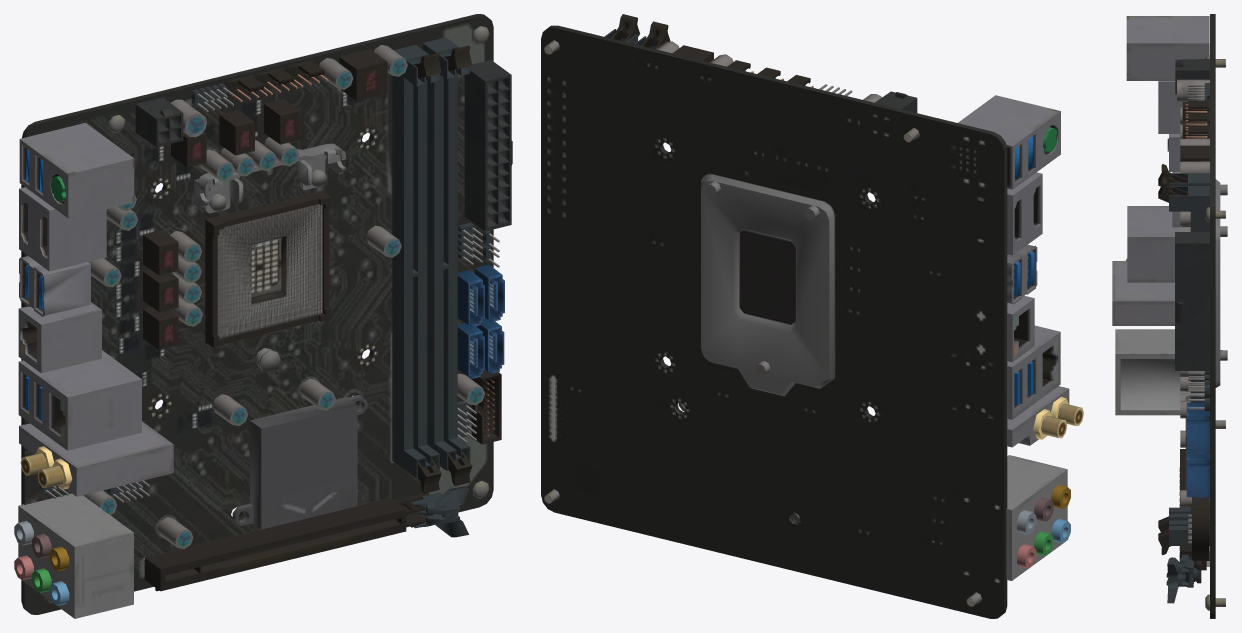
The model's file is motherboard_itx.glb.
3 views of the same model, side by side, from view 1: azimuth 30°, elevation 25°; view 2: azimuth 150°, elevation 25°; view 3: azimuth 270°, elevation 25° (orthographic). The views are drawn at different scales.
Parts seen in each view (by area): view 1: part_motherboard; view 2: part_motherboard; view 3: part_motherboard.
Part boxes in pixels (x1,y1,x2,y2): part_motherboard: (14,14,512,618); part_motherboard: (541,14,1083,618); part_motherboard: (1112,14,1227,618).
Size of the model in its own units: 1.81 by 1.71 by 0.4257.
1 material, 1 textured.
